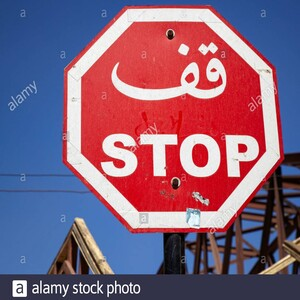stop: (64, 5, 283, 232)
